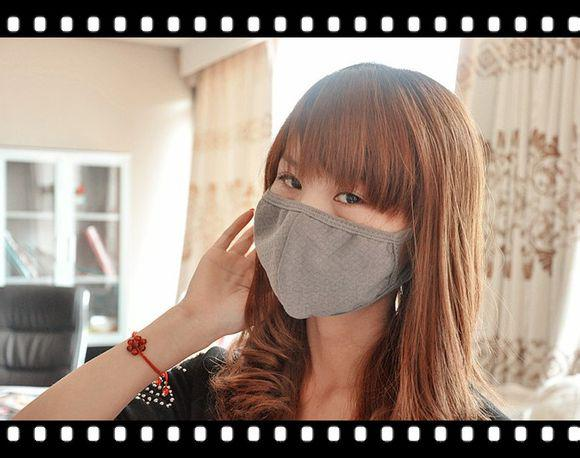OK: (259, 144, 418, 315)
